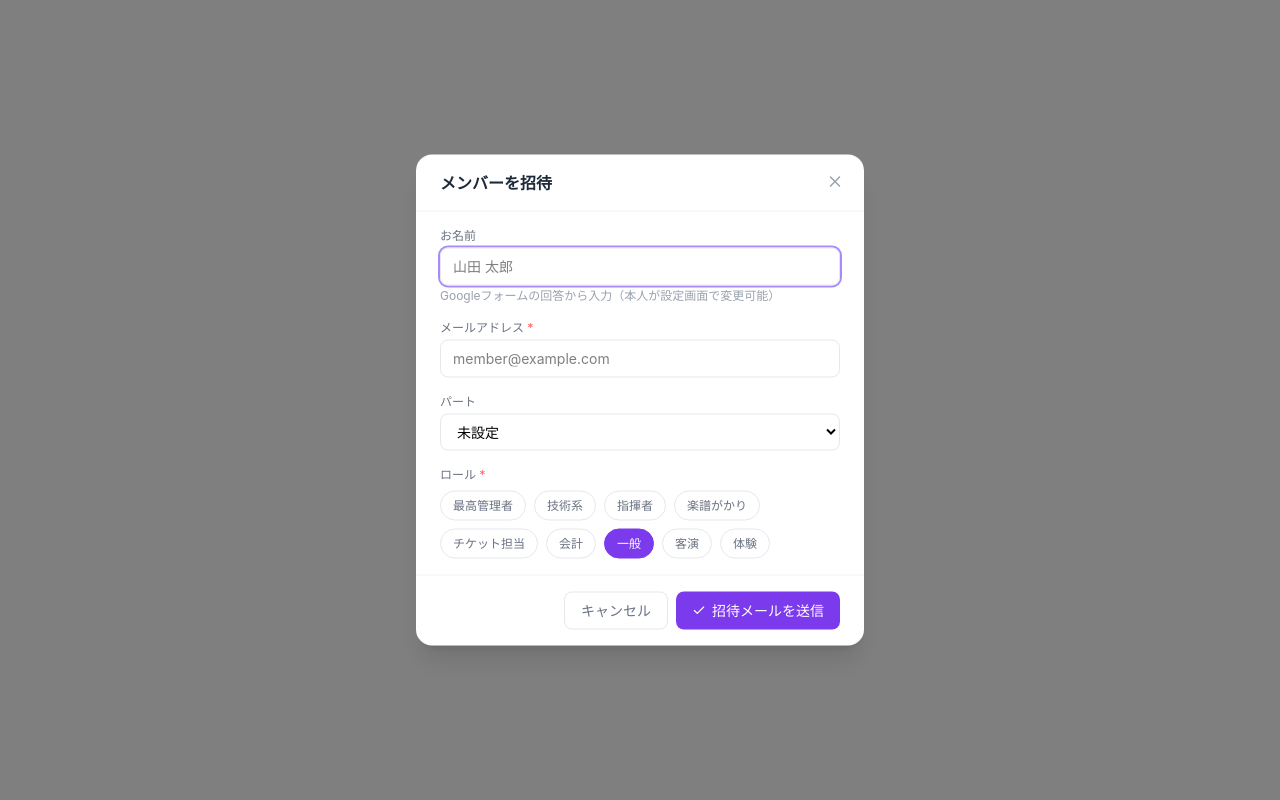
Test: InviteModal › ロールをすべて解除して送信: バリデーションエラーを表示する
Type "new@example.com" into the field labelled "メールアドレス *". click: (640, 358)
box: [440, 340, 840, 378]
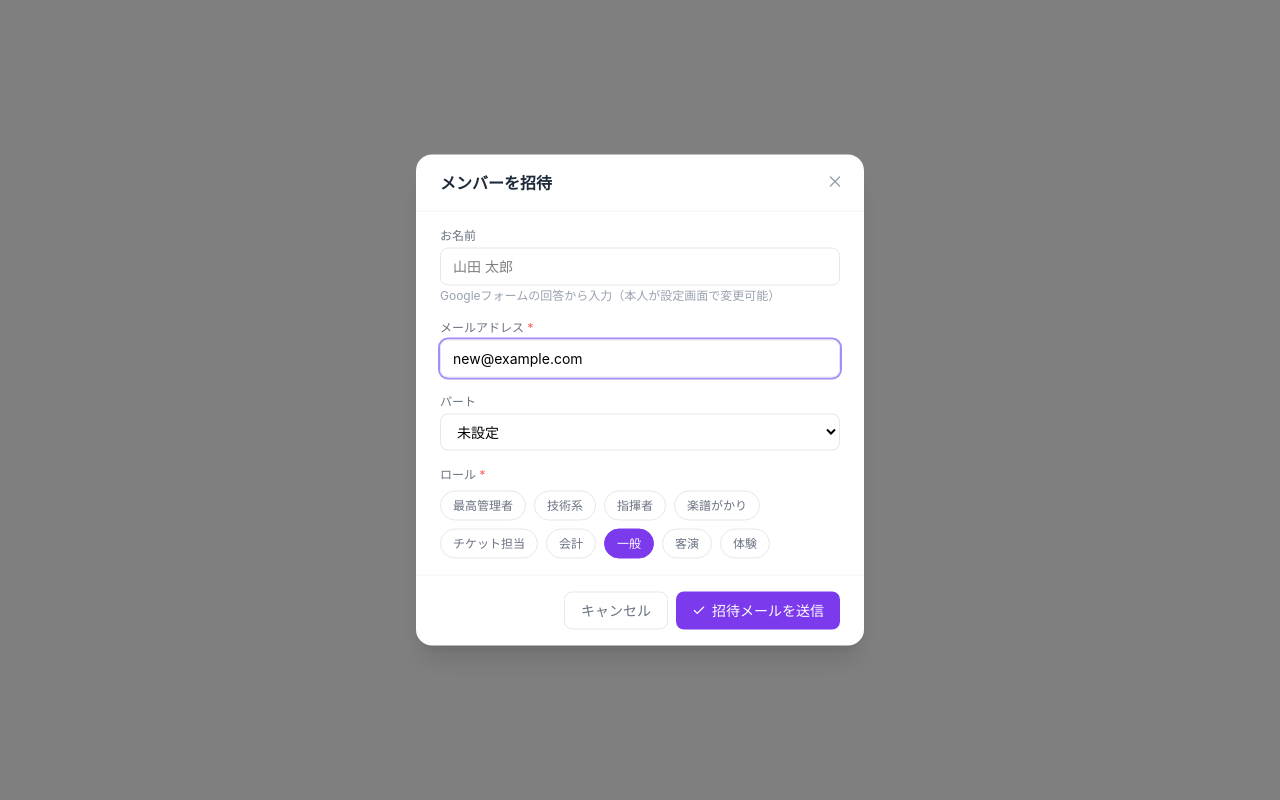
# デフォルトで選択済みの「一般」チップを解除する
Click the button "一般". click: (629, 544)
box: [604, 528, 654, 558]
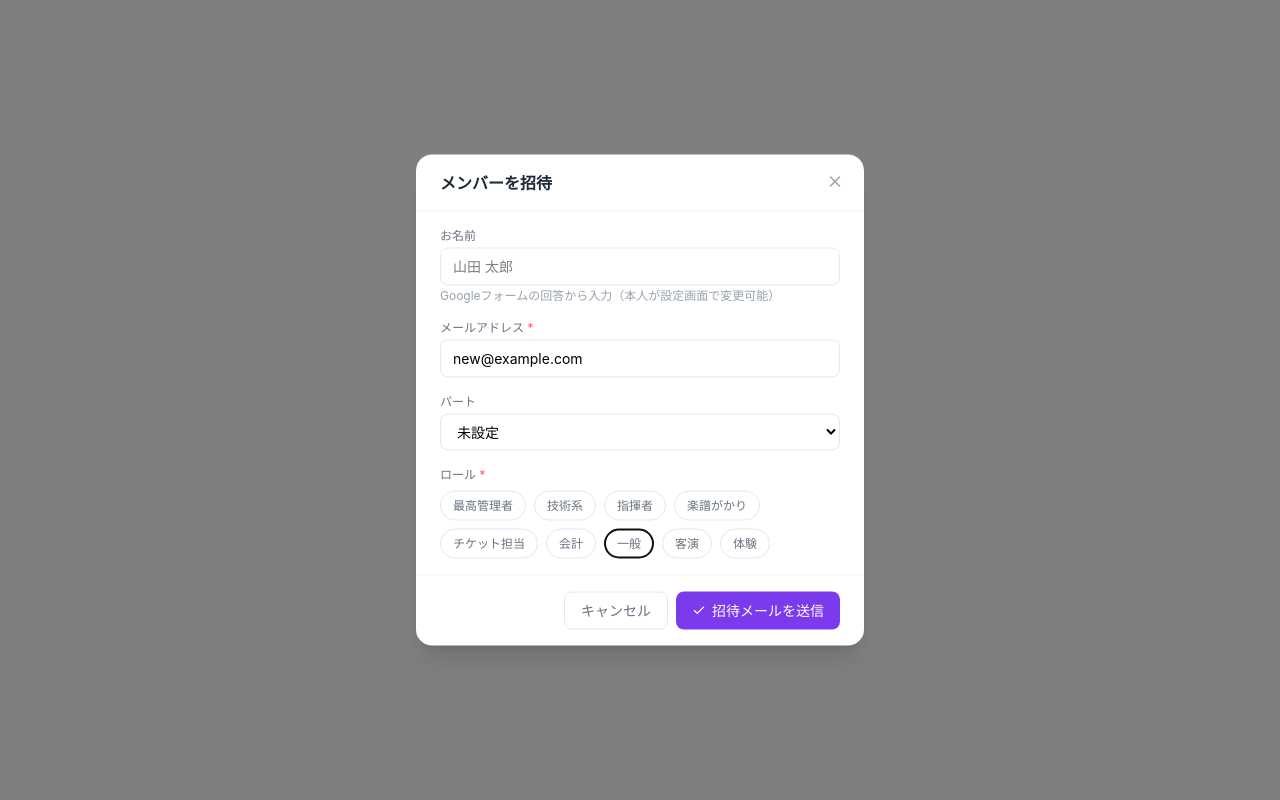
Click the button "招待メールを送信". click: (758, 610)
box: [676, 592, 840, 630]
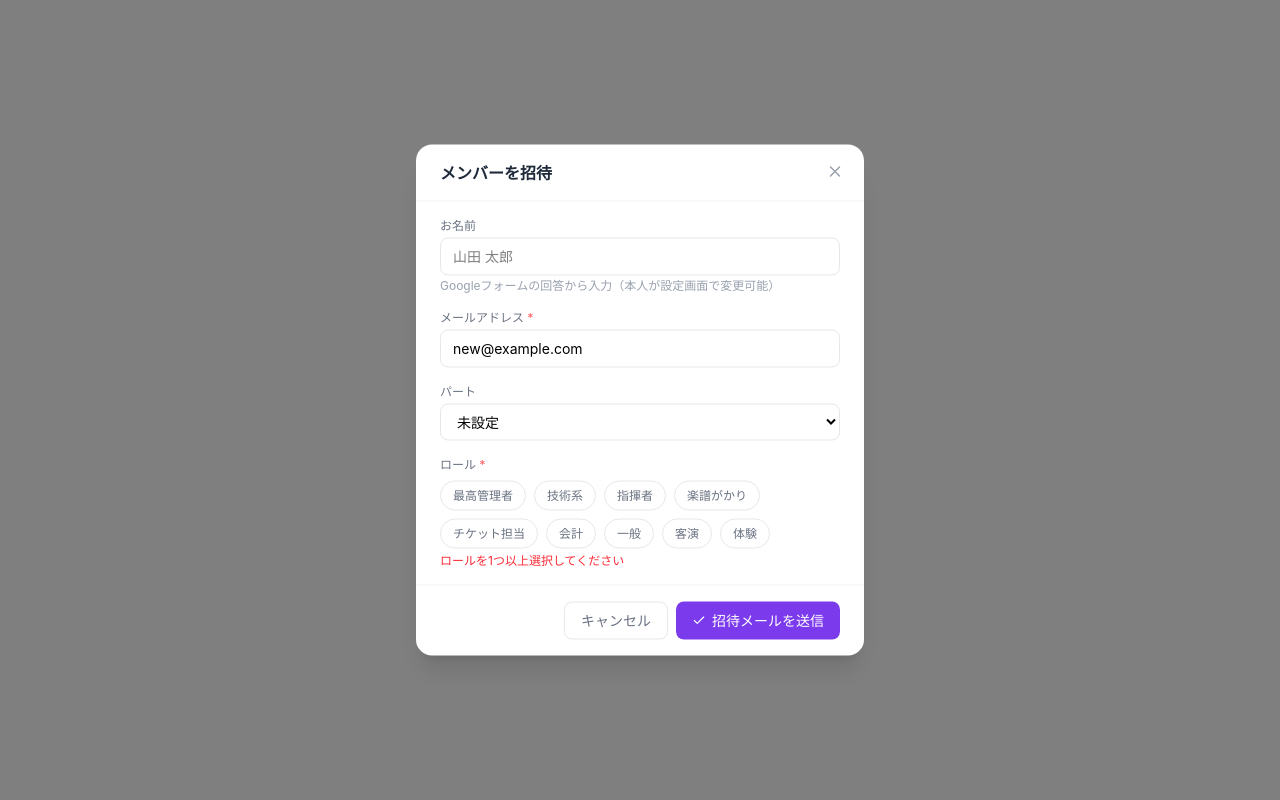
Expected: the text "ロールを1つ以上選択してください" is shown, [440, 552, 624, 568]
